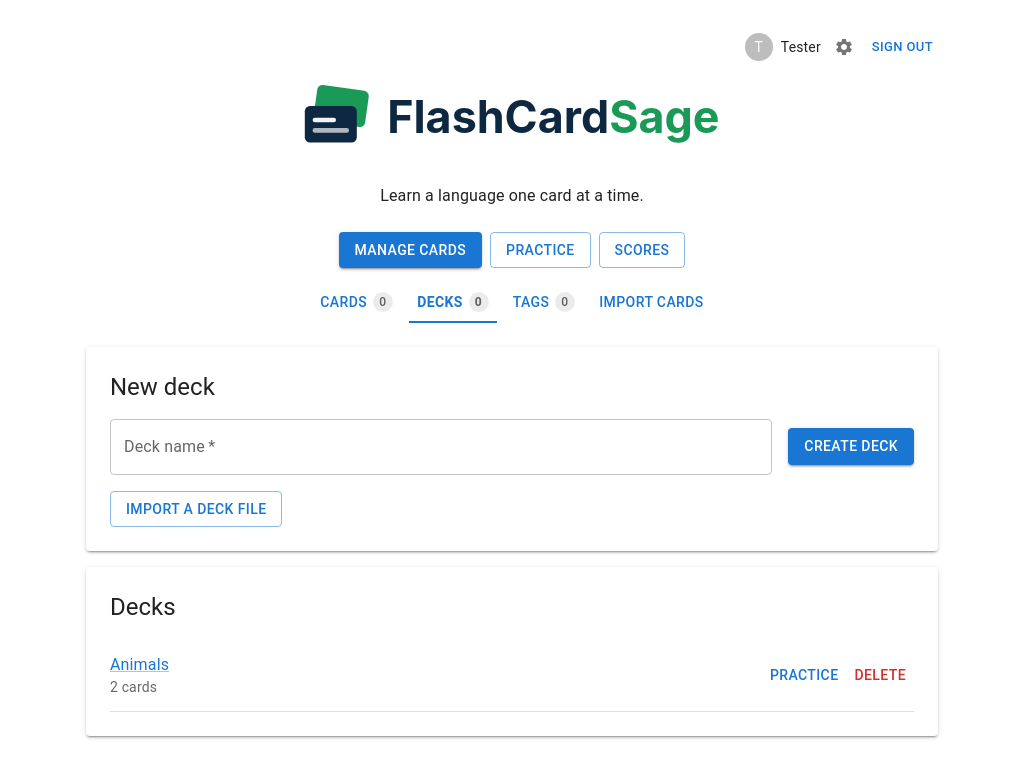
decks › the list › shows why the API refused a deck
The image size is (1024, 768).
In the field labelled "Deck name": (441, 447) [110,419,772,475], type "animals"
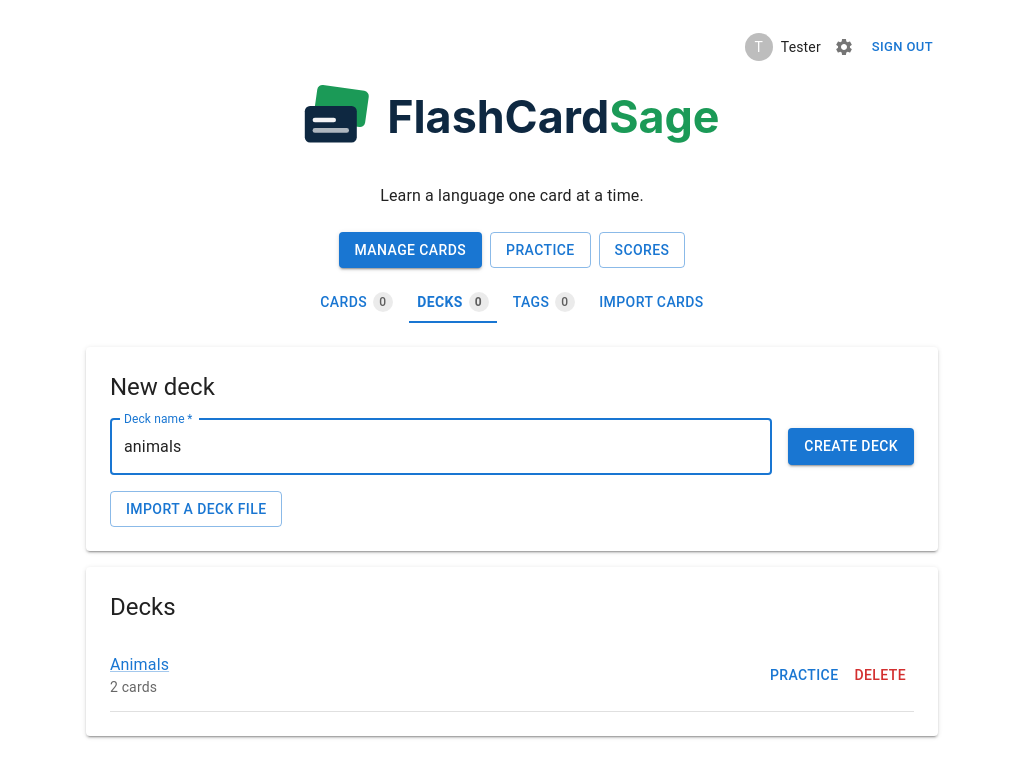
Click the button "Create deck": (851, 447) [788,428,914,465]
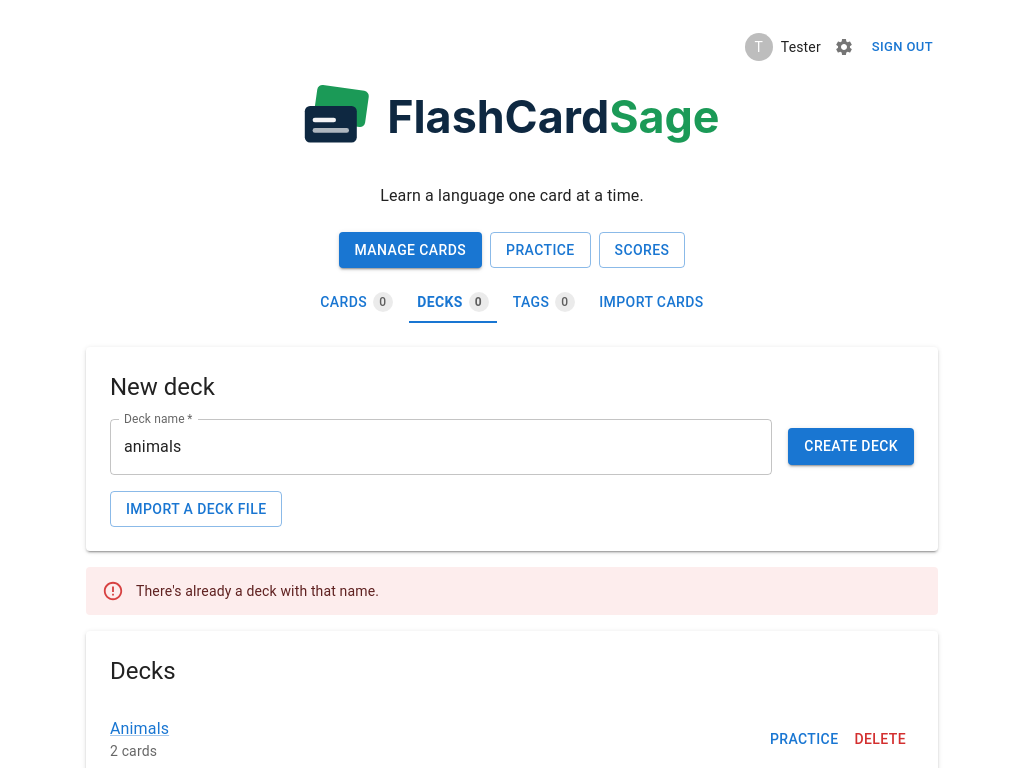
Expected: the message reads "There's already a deck with that name.", [136,583,379,599]
